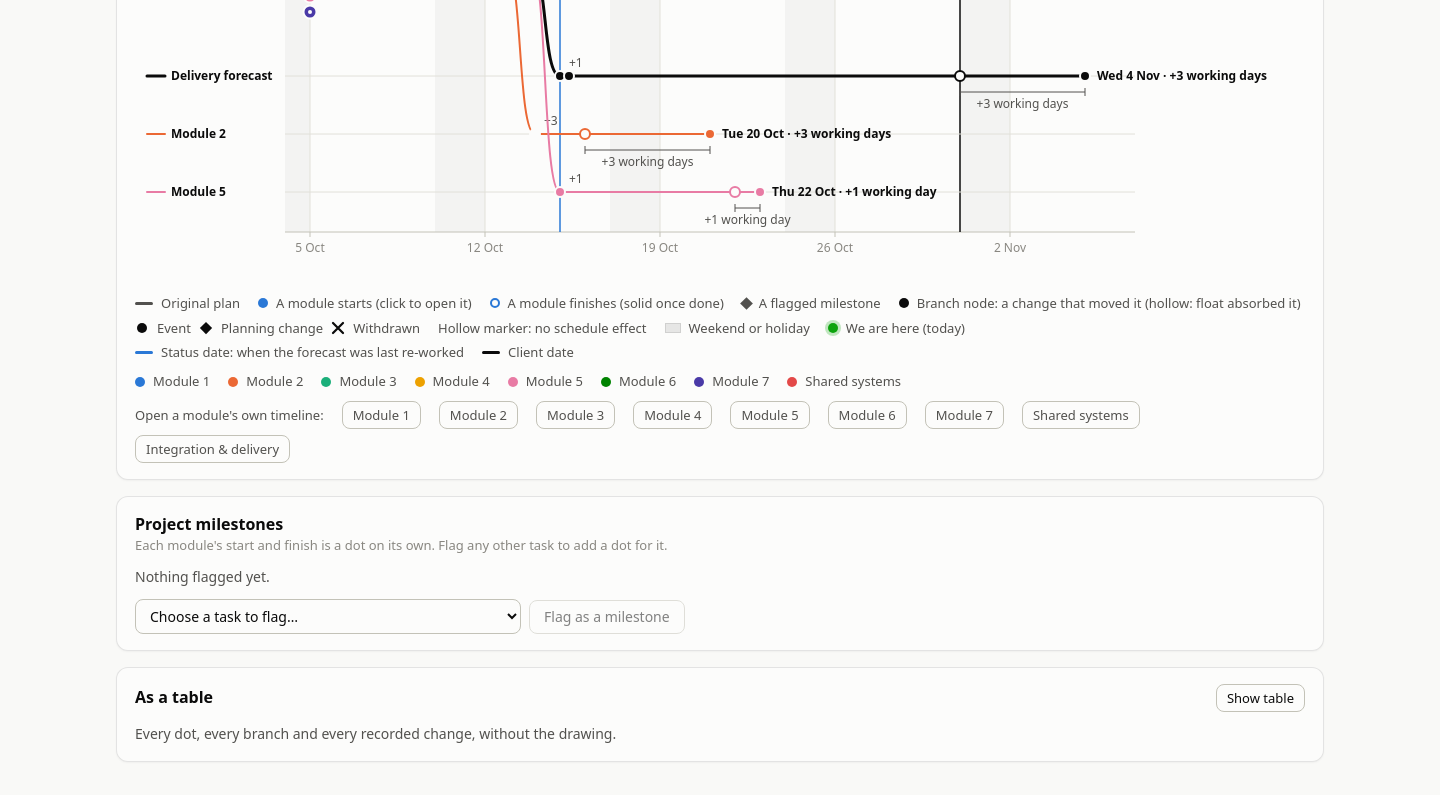
Test: the project view and a module’s own view › can be opened without aiming at a dot, from a list of the modules
(page scrolled)
Click the button "Module 2": (478, 415) top-left (439, 401), bottom-right (518, 429)
(page scrolled)
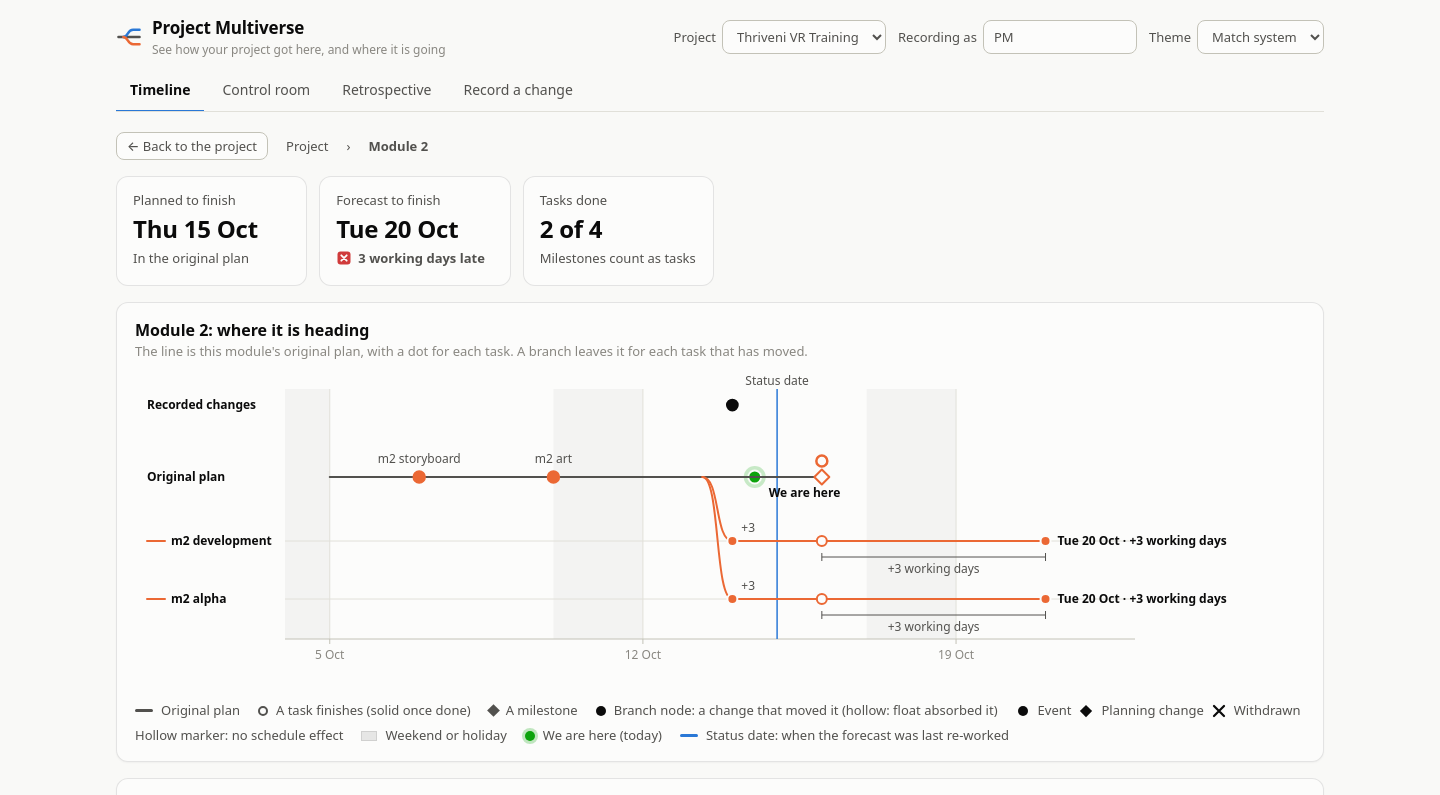
Now the heading "Module 2: where it is heading" is shown, box top-left (135, 319), bottom-right (370, 341)
